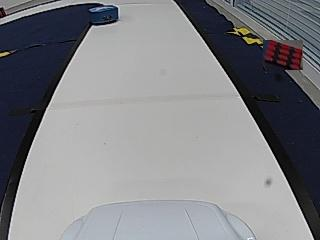prop: (89, 6, 118, 25)
